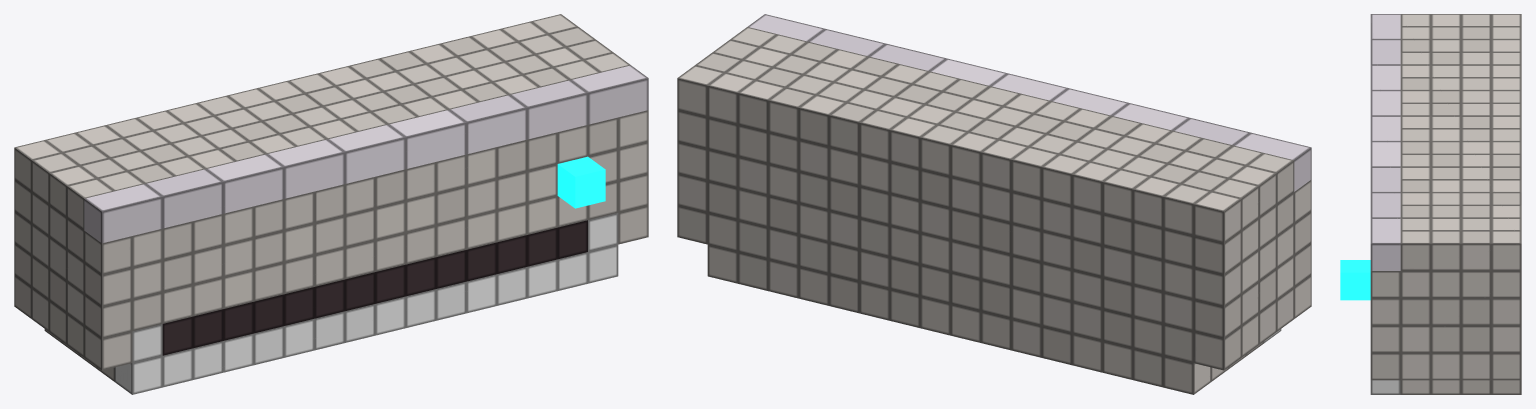
The model's file is ac_unit.glb.
3 renders of one model, left to right at view 1: azimuth 30°, elevation 25°; view 2: azimuth 150°, elevation 25°; view 3: azimuth 270°, elevation 25°, orthographic. The views are drawn at different scales.
Visible parts, largest first — view 1: ac_unit; view 2: ac_unit; view 3: ac_unit.
Boxes of the visible parts, x1,y1,x2,y2 form: ac_unit: (14,14,648,394); ac_unit: (677,14,1311,394); ac_unit: (1340,14,1521,394).
Size of the model in its own units: 0.9 by 0.3 by 0.3.
5 materials, 4 textured.
